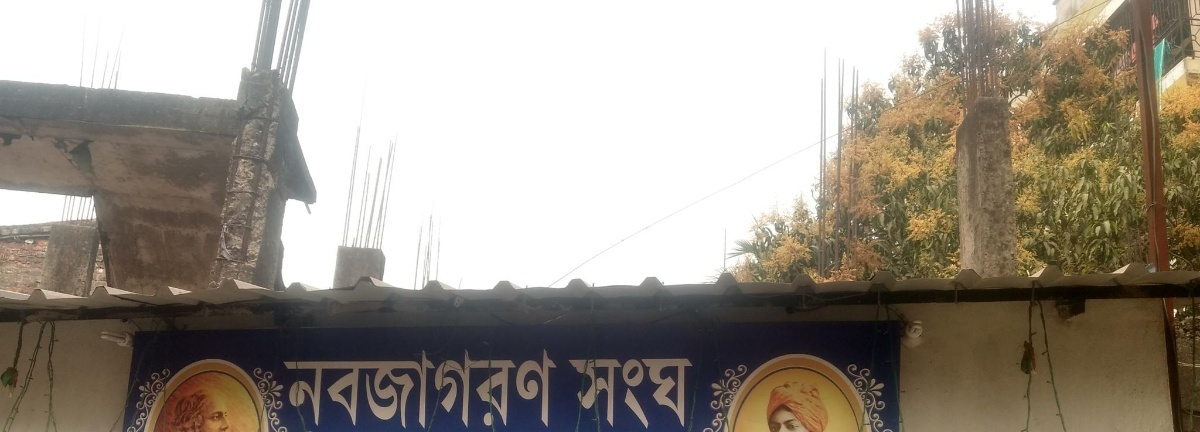text: (289, 344, 304, 431), (305, 344, 320, 431), (321, 344, 336, 431), (337, 344, 352, 431), (353, 344, 368, 431), (369, 344, 384, 431), (385, 344, 400, 431), (401, 344, 416, 431), (417, 344, 432, 431), (433, 344, 448, 431), (449, 344, 464, 431), (465, 344, 480, 431), (481, 344, 496, 431), (497, 344, 512, 431), (513, 344, 528, 431), (529, 344, 544, 431), (545, 344, 558, 431), (577, 353, 592, 428), (593, 353, 608, 428), (609, 353, 624, 428), (625, 353, 640, 428), (641, 353, 656, 428), (657, 353, 672, 428), (673, 353, 688, 428), (278, 344, 288, 431), (568, 353, 576, 428), (689, 353, 696, 428)
